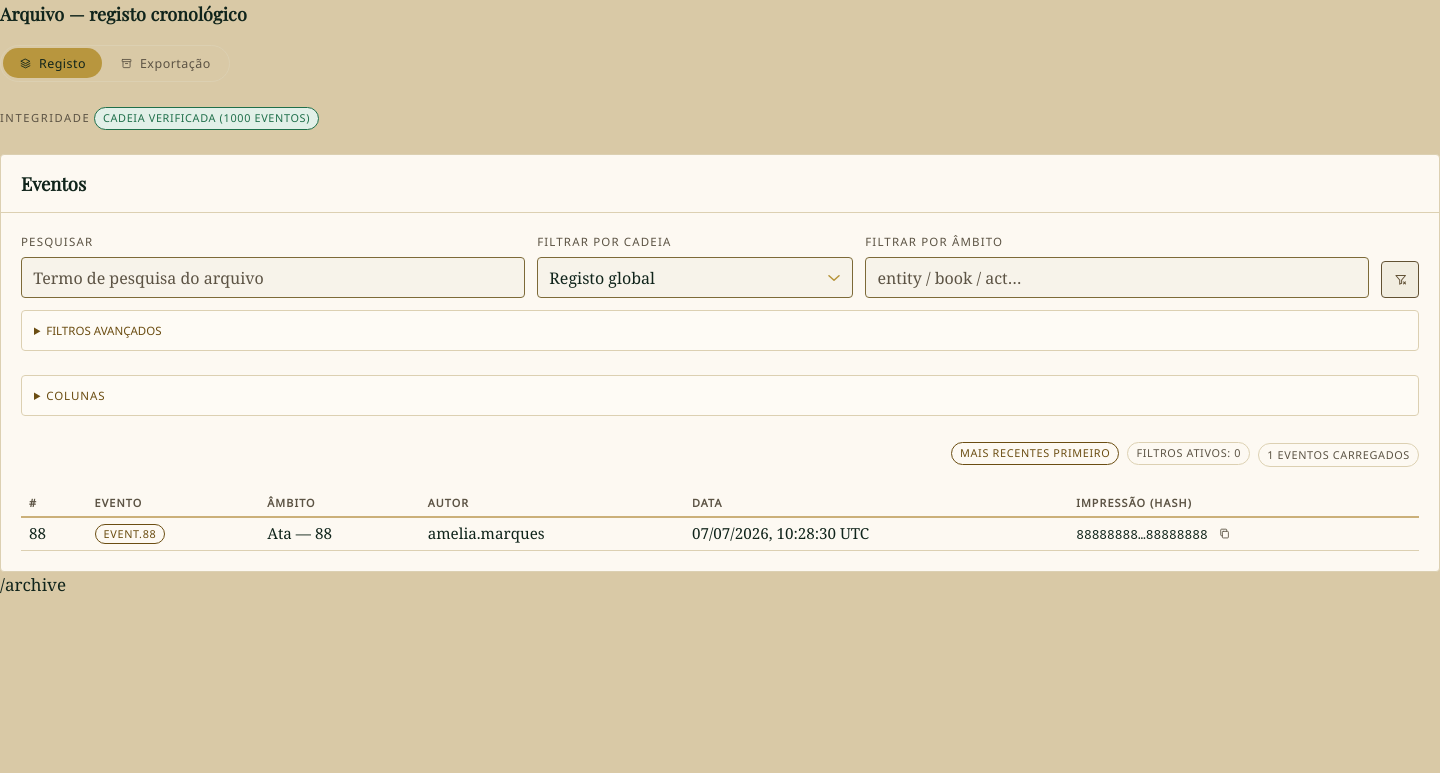
LedgerPage — sub-tabs › echoes the Registo filter count in Exportação and offers a way back to change it
The image size is (1440, 773).
Expected: the text "event.88" is shown, [104,526,156,541]
In the search field labelled "Filtrar por âmbito": (1117, 278) [865,257,1369,298], type "act:88"
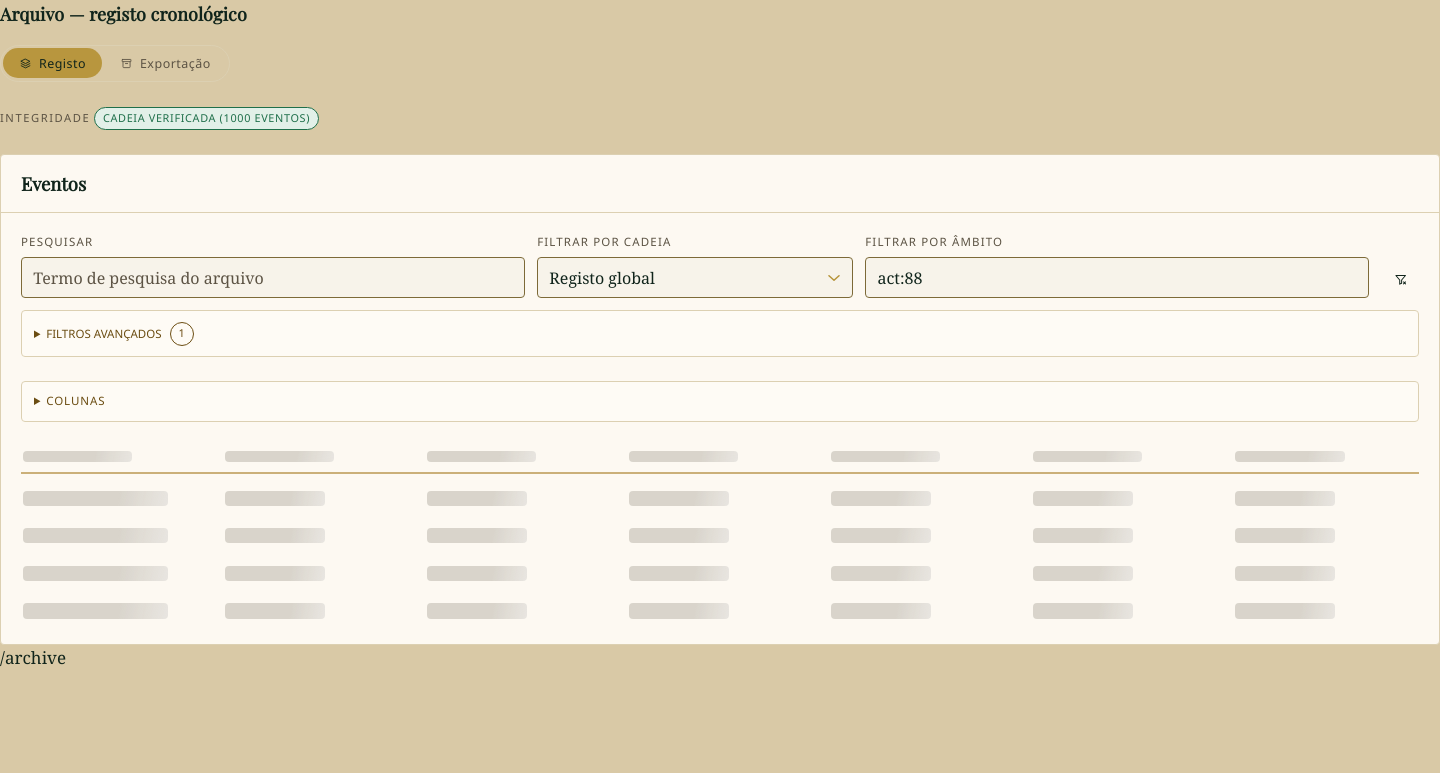
Click the button "Exportação": (166, 64) [104,49,227,79]
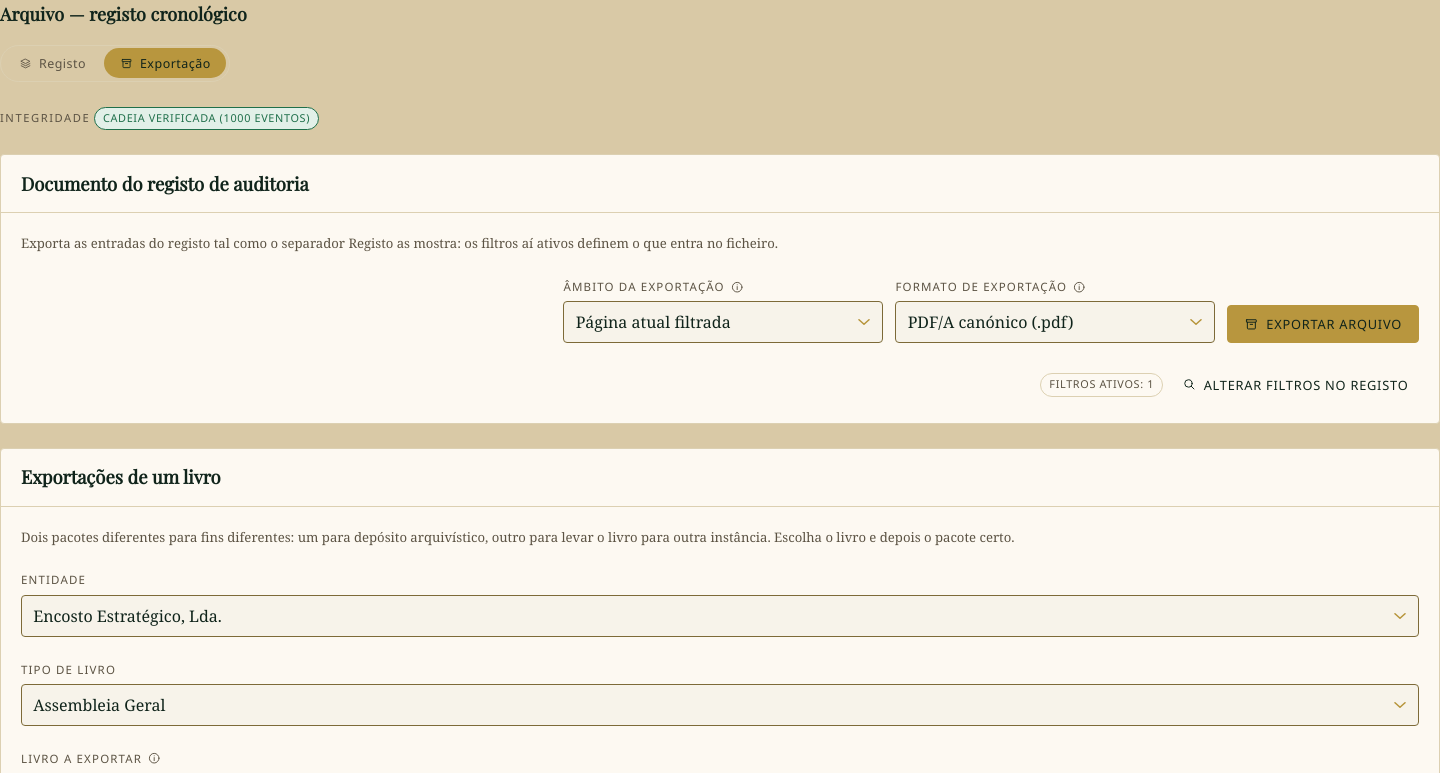
Expected: the text "Filtros ativos: 1" is shown, [1040,373,1163,397]
Click the button "Alterar filtros no Registo": (1295, 385) [1171,367,1419,403]
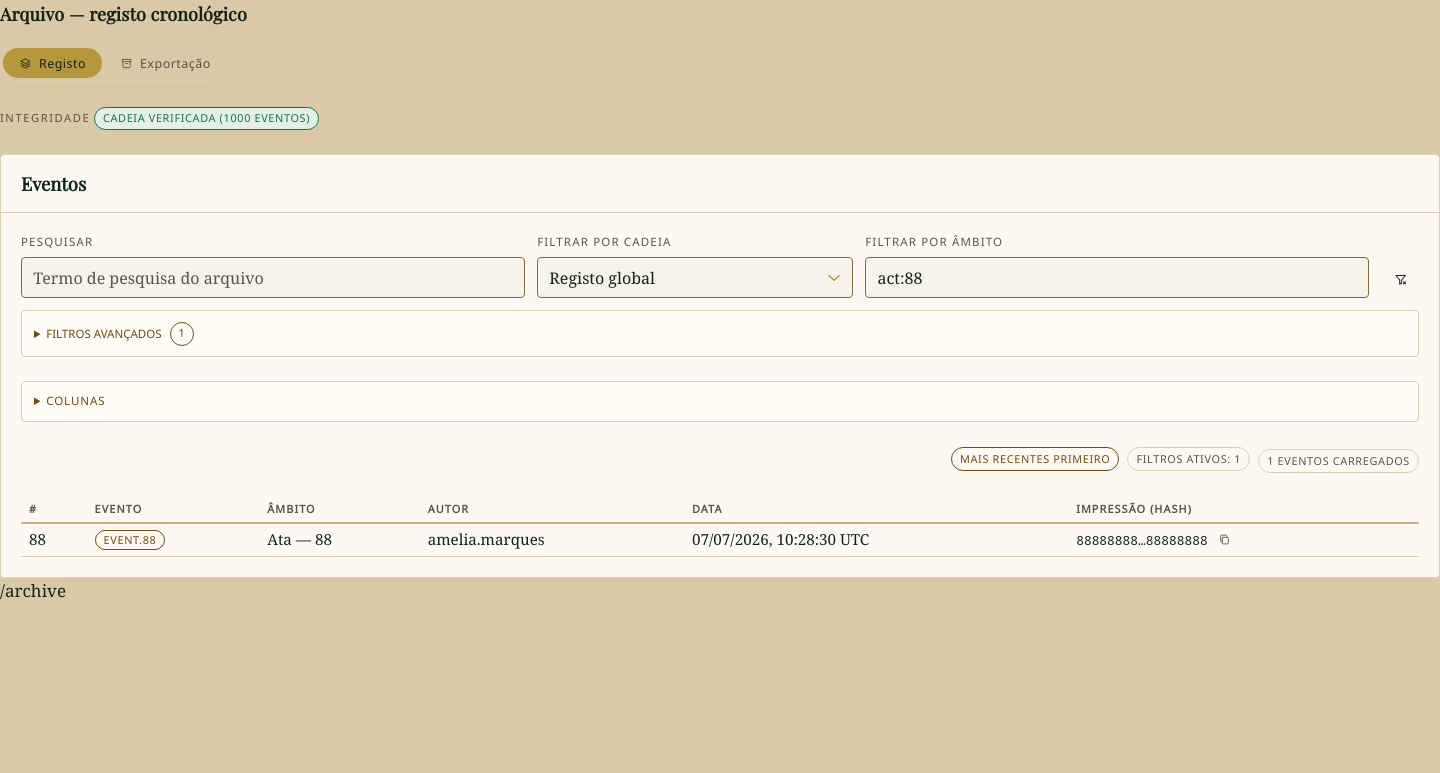
Expected: the text with test id "location" reads "/archive", [0,579,66,602]
Expected: the search field labelled "Filtrar por âmbito" holds "act:88", [865,257,1369,298]
